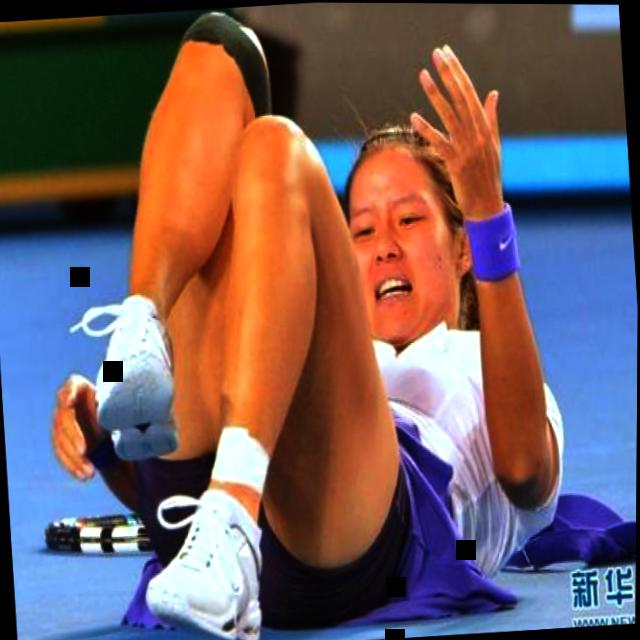Fall-Detected: (8, 0, 640, 640)
